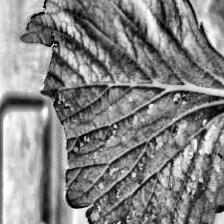Angular Leafspot: (50, 87, 224, 224)
